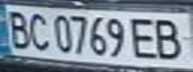0: (48, 11, 72, 54)
6: (87, 14, 109, 57)
7: (66, 12, 90, 55)
9: (103, 14, 130, 58)
B: (151, 16, 190, 61), (3, 7, 33, 50)
C: (24, 10, 51, 52)
E: (127, 15, 163, 61)
